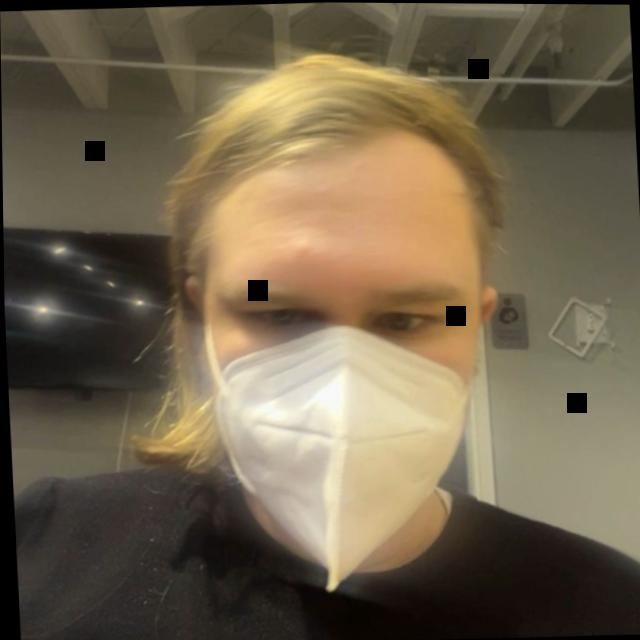Mask: (114, 43, 535, 590)
